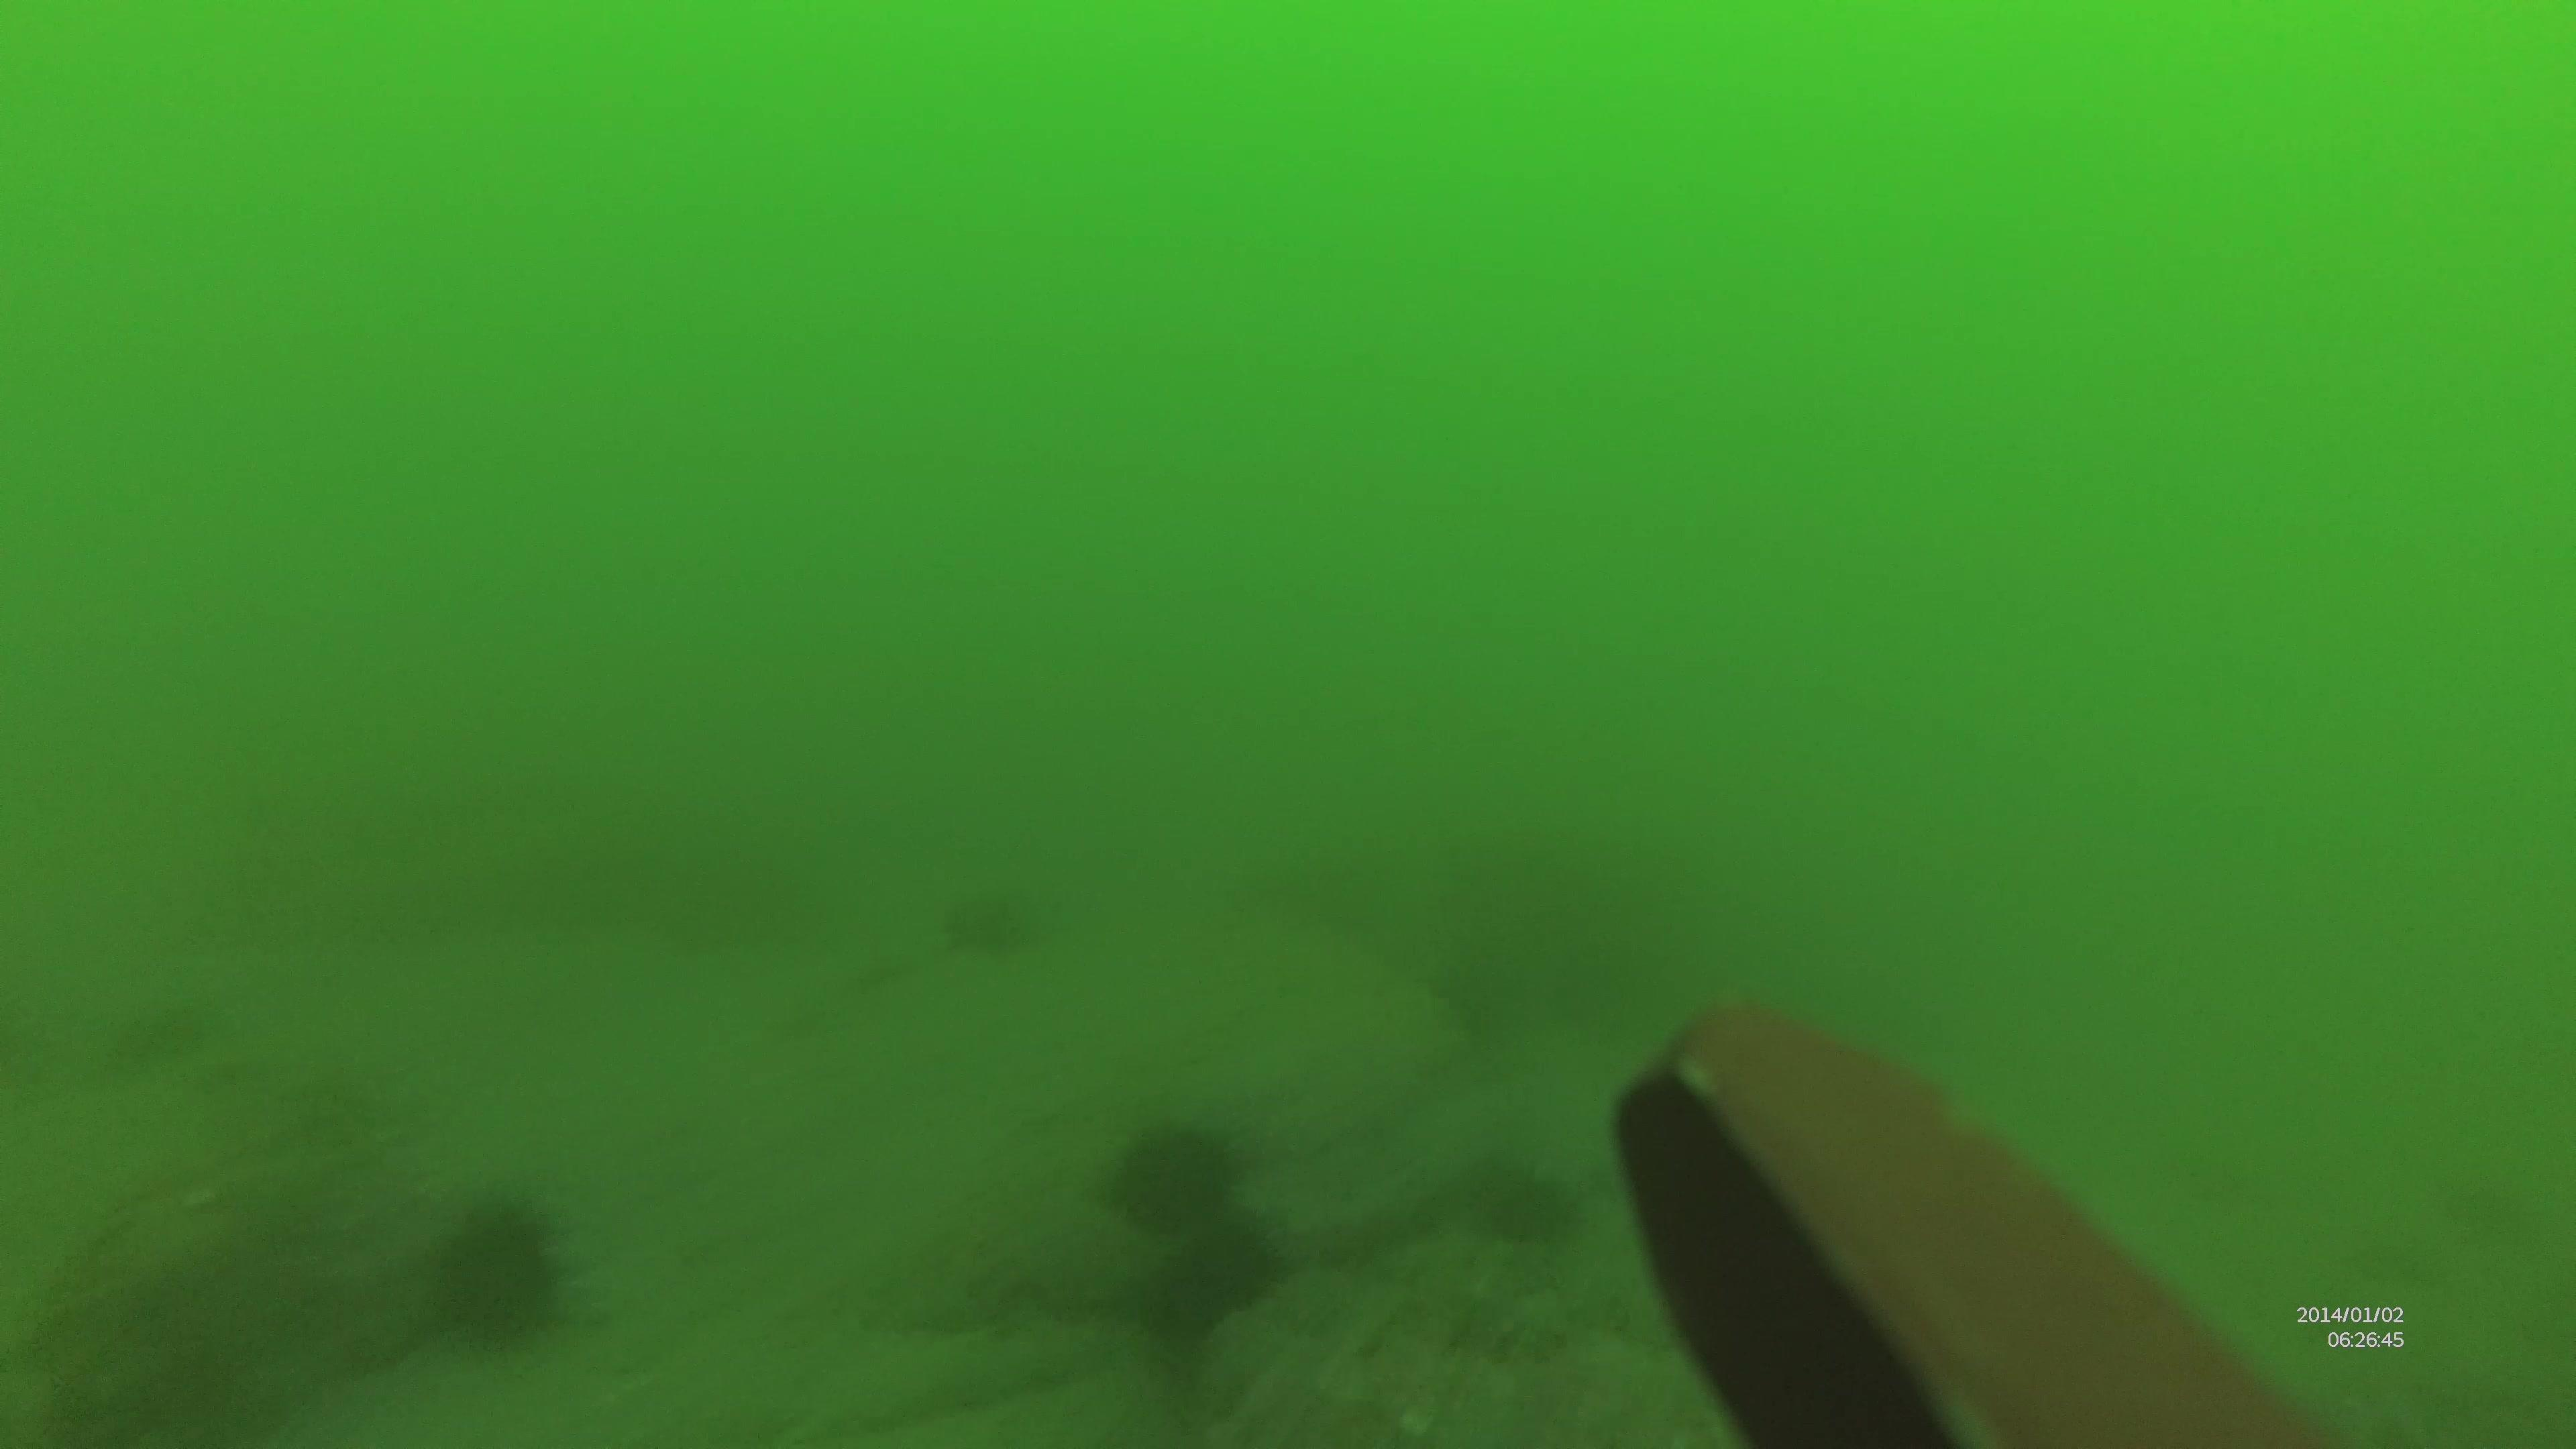echinus: (409, 1191, 563, 1327), (1106, 1113, 1240, 1226), (1150, 1212, 1269, 1332), (932, 876, 1037, 973)
